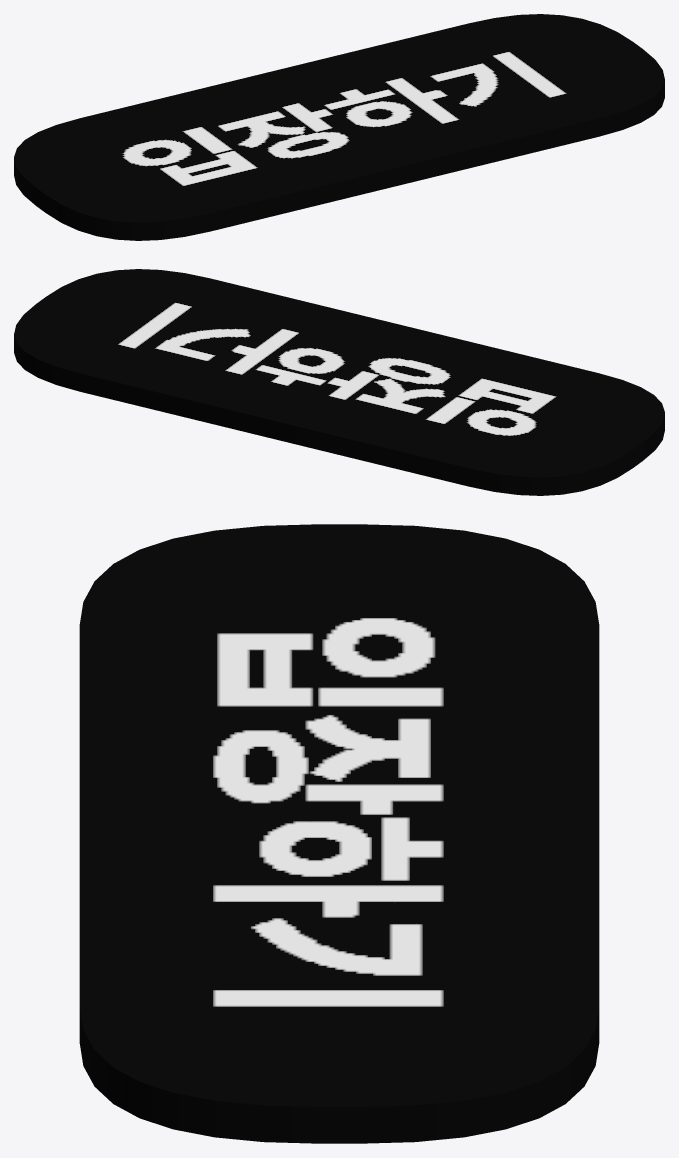
File: inout.fbx
3 renders of one model, top to bottom at view 1: azimuth 30°, elevation 25°; view 2: azimuth 150°, elevation 25°; view 3: azimuth 270°, elevation 25°, orthographic. The views are drawn at different scales.
Parts seen in each view (by area): view 1: Box3466; view 2: Box3466; view 3: Box3466.
Boxes of the visible parts, left/top/right/bottom form: Box3466: left=14, top=14, right=664, bottom=240; Box3466: left=14, top=269, right=664, bottom=495; Box3466: left=79, top=524, right=599, bottom=1143.
Size of the model in its own units: 13962 by 409 by 5263.
